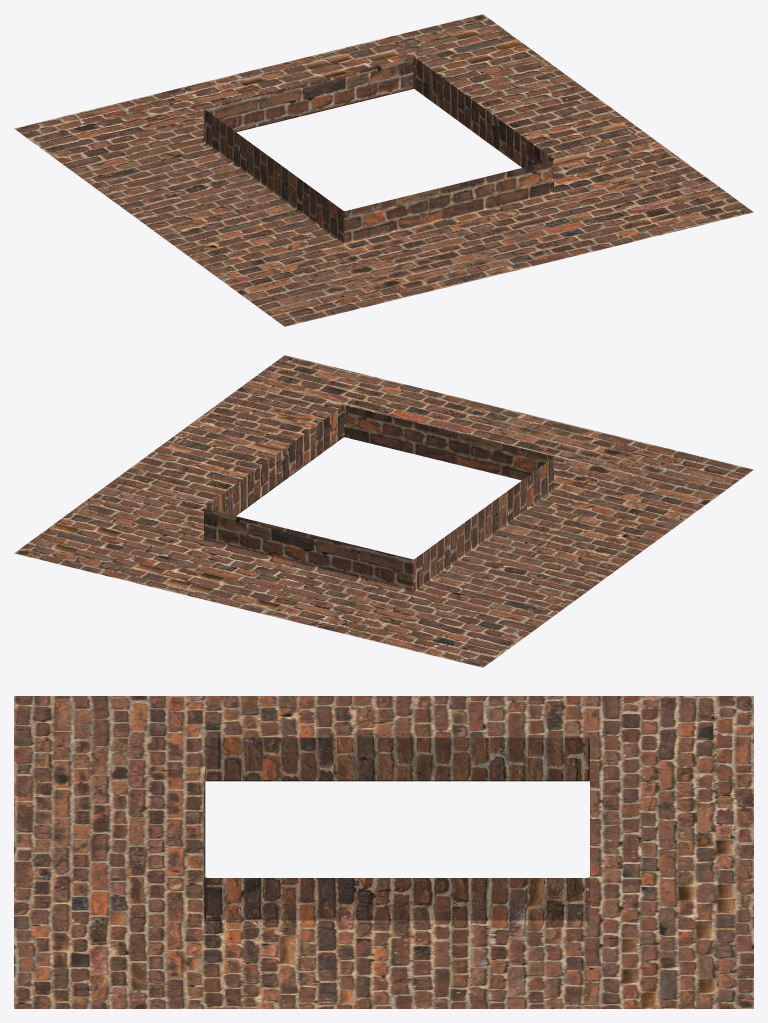
Rendered from wall_window_centered_medium_01.gltf.
3 views of the same model, one above another, from view 1: azimuth 30°, elevation 25°; view 2: azimuth 150°, elevation 25°; view 3: azimuth 270°, elevation 25° (orthographic). The views are drawn at different scales.
Visible parts, largest first — view 1: wall_window_centered_medium_01; view 2: wall_window_centered_medium_01; view 3: wall_window_centered_medium_01.
Boxes of the visible parts, x1=… form: wall_window_centered_medium_01: x1=14, y1=14, x2=753, y2=326; wall_window_centered_medium_01: x1=14, y1=355, x2=753, y2=667; wall_window_centered_medium_01: x1=14, y1=696, x2=753, y2=1008.
Bounding box in the file's own units: 3 × 0.2 × 3.
1 material, 1 textured.
